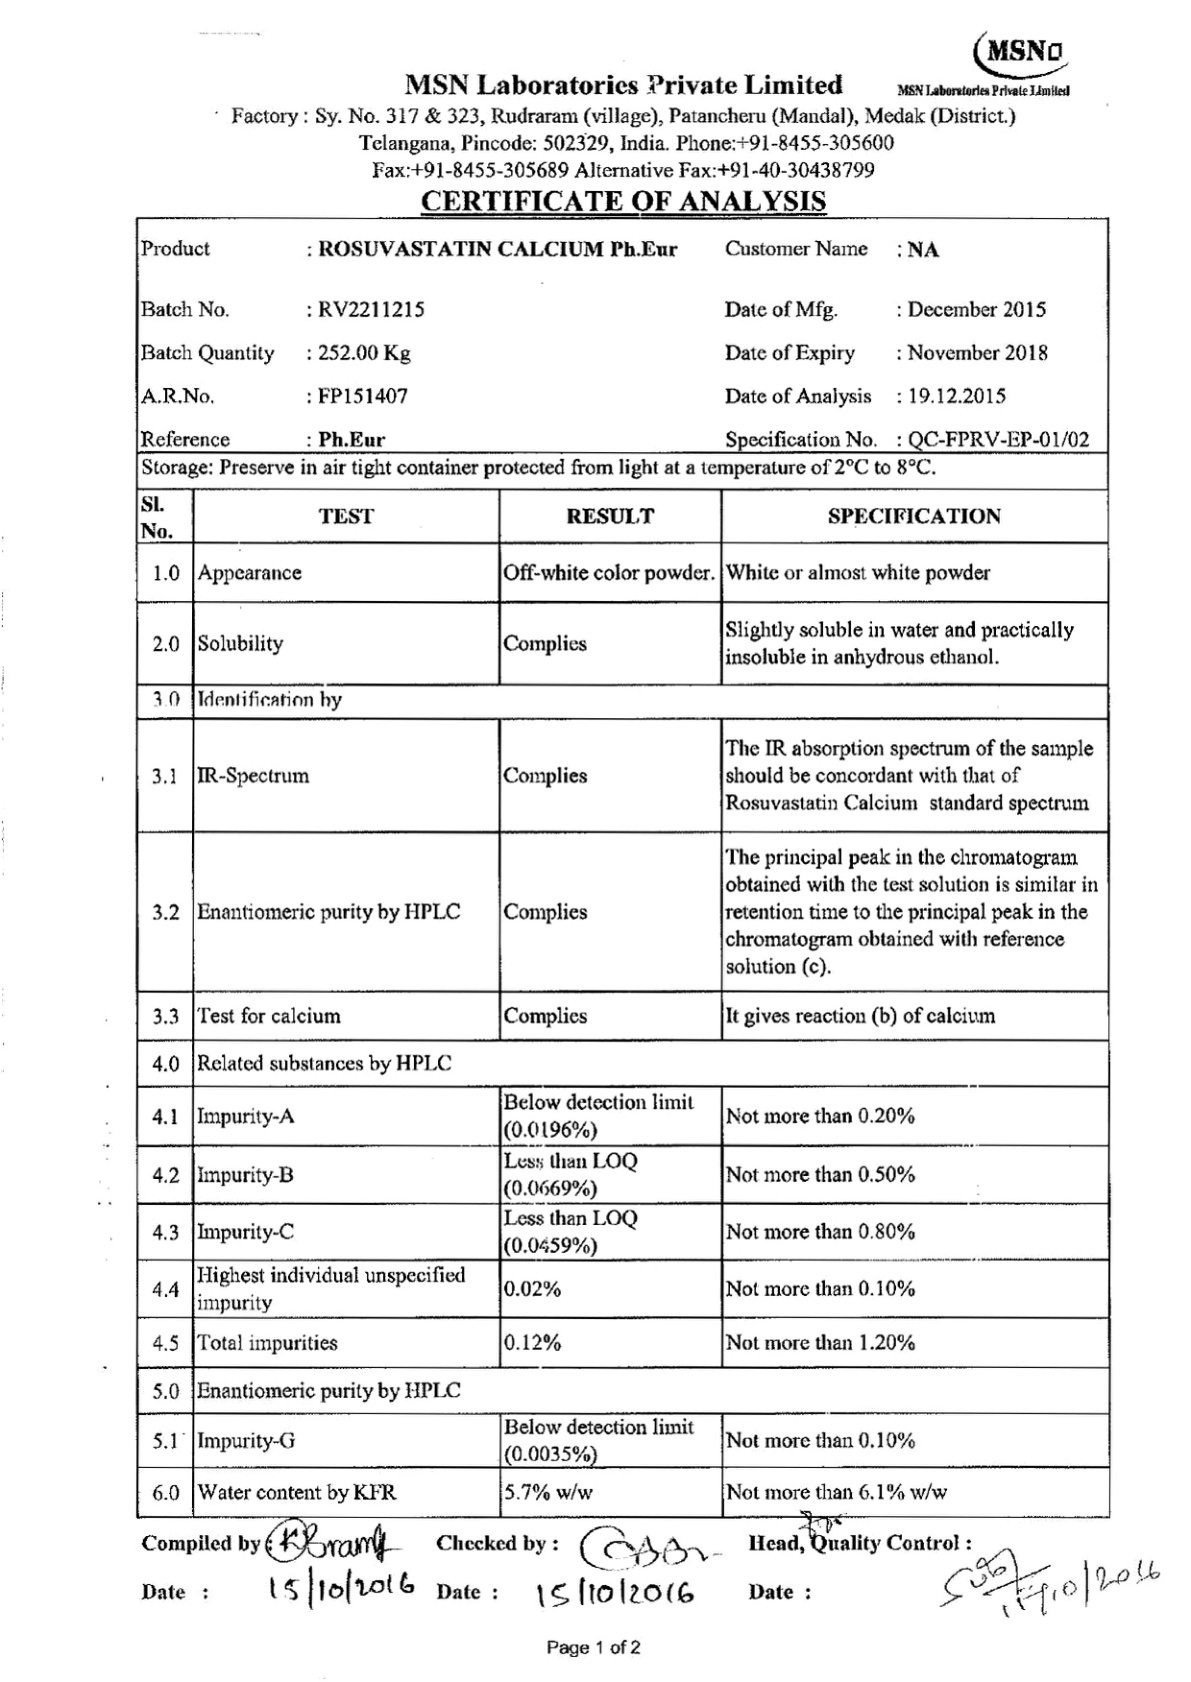merged_cells: (134, 215, 1112, 1520)
